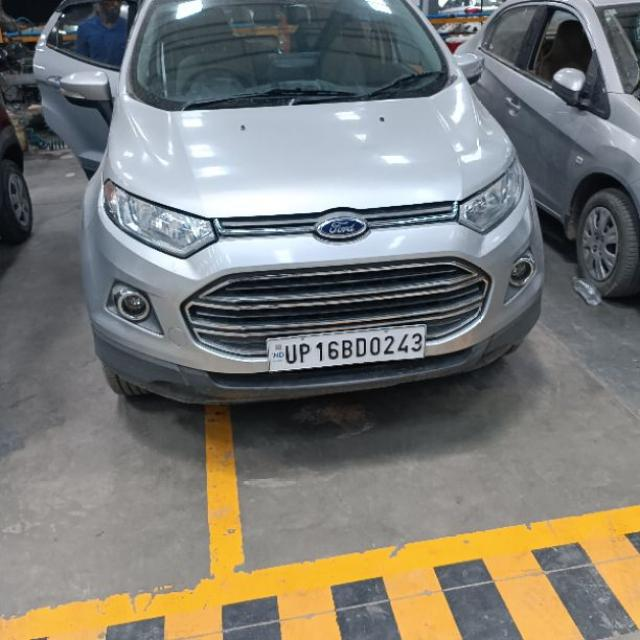license_plate: (264, 322, 426, 372)
